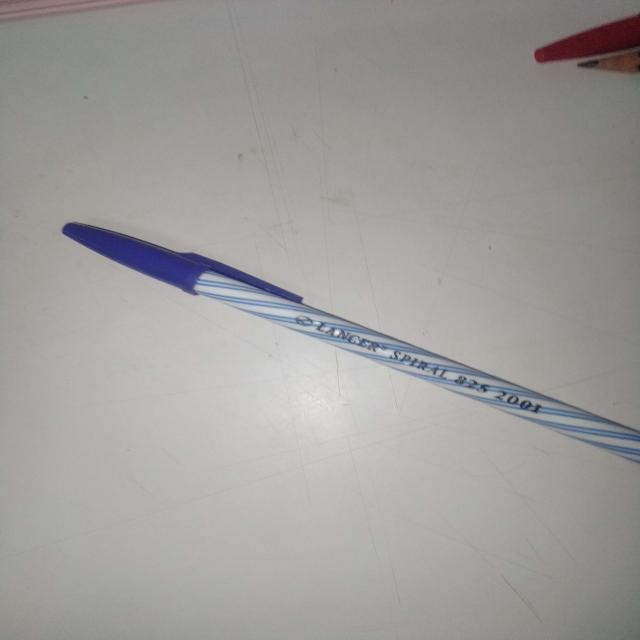pen_pencil: (44, 214, 640, 510)
